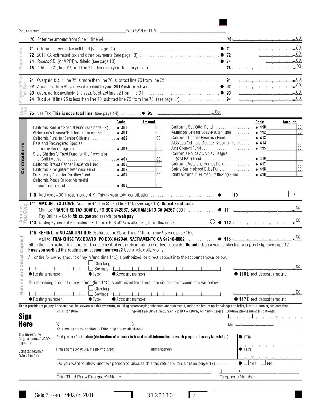checkbox: (87, 259, 95, 266), (87, 284, 95, 291), (260, 359, 267, 366), (243, 359, 251, 365), (87, 265, 95, 271), (87, 290, 95, 296)
textbox: (55, 333, 239, 348), (55, 345, 150, 361), (150, 345, 239, 361), (236, 345, 306, 361), (235, 333, 305, 348), (126, 149, 157, 163), (127, 175, 158, 189), (127, 138, 157, 152), (266, 149, 298, 162), (127, 170, 157, 178), (127, 165, 157, 173), (127, 160, 157, 168), (265, 139, 298, 146), (265, 144, 298, 151), (265, 160, 298, 167), (265, 165, 298, 172), (265, 170, 298, 177), (266, 123, 298, 130), (128, 124, 157, 131), (127, 129, 156, 136), (127, 134, 156, 141), (265, 129, 298, 135), (265, 134, 298, 140)
textline: (55, 366, 213, 374), (55, 330, 303, 335), (112, 264, 222, 272), (112, 289, 222, 297), (232, 203, 305, 214), (131, 320, 228, 328), (231, 215, 305, 225), (40, 27, 127, 35), (218, 366, 302, 374), (232, 287, 304, 296), (156, 107, 223, 116), (231, 33, 305, 41), (232, 234, 306, 242), (231, 263, 305, 271), (55, 321, 131, 328), (231, 63, 304, 70), (158, 27, 229, 34), (27, 263, 87, 271), (27, 288, 87, 296), (237, 75, 304, 82), (237, 88, 304, 95), (237, 82, 303, 89), (238, 95, 304, 102), (238, 190, 291, 198), (256, 313, 305, 321), (233, 321, 284, 327), (257, 45, 304, 51), (257, 51, 304, 57), (263, 57, 304, 63), (230, 312, 252, 320)
